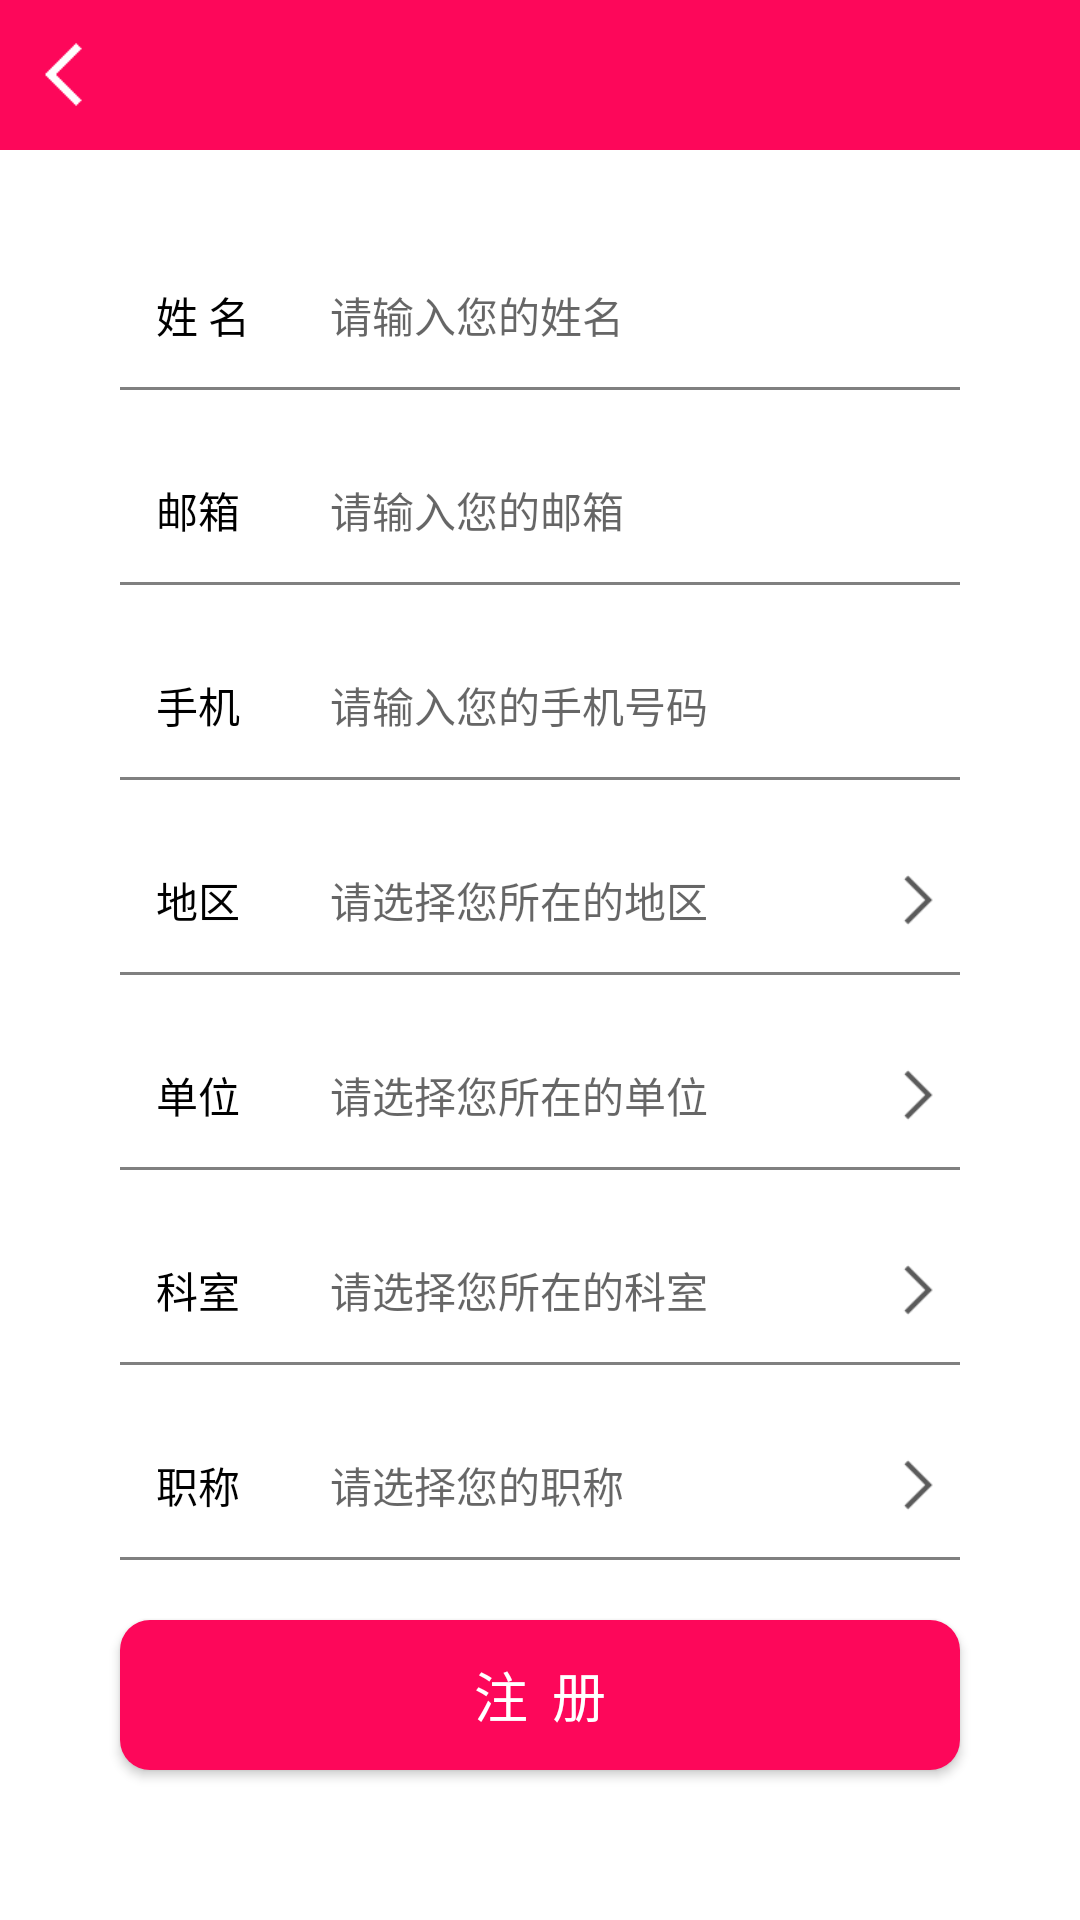

Where icons sit on this 1080×1920 app screen, as (x1, y1, x2, y2):
me back: (45, 43, 82, 106)
me next: (904, 876, 933, 924), (904, 1071, 933, 1119), (904, 1266, 933, 1314), (904, 1461, 933, 1509)
